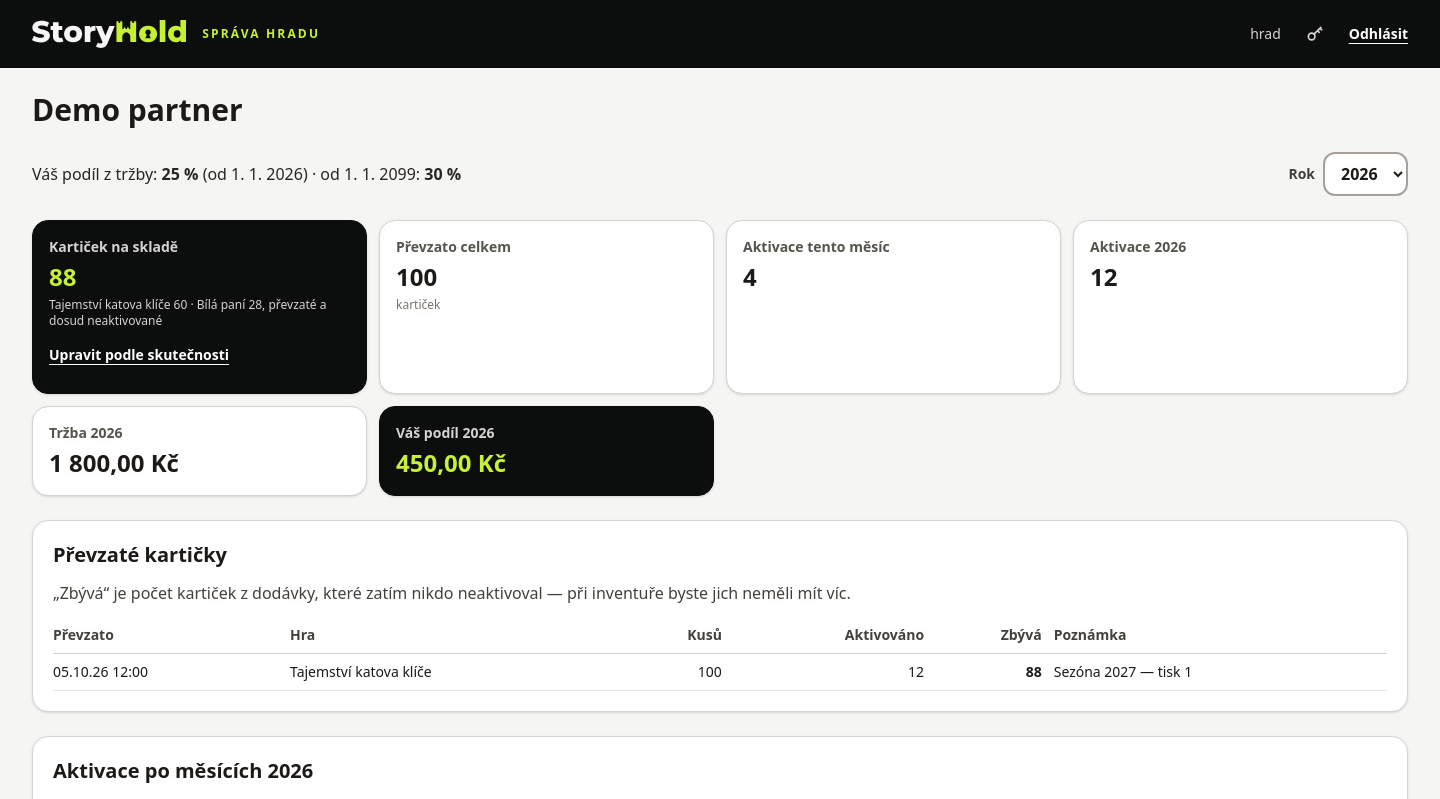
it: AdminPage — castle › changes the password from the key icon in the header
Click the button named "Změnit heslo" at (1315, 34), box [1293,12,1337,56]
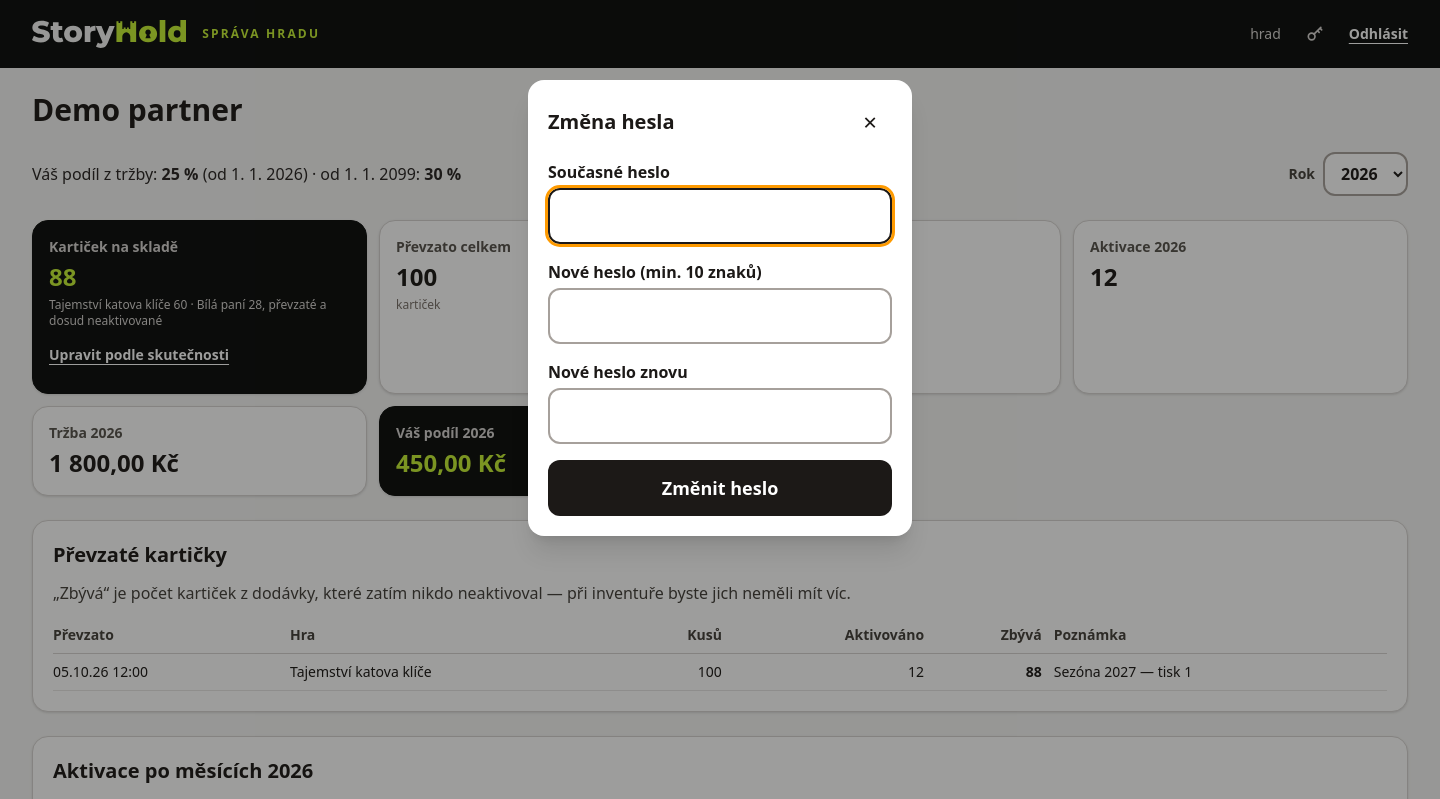
Type "hrad-loket" into the password field labelled "Současné heslo" at (720, 216), box [548,188,892,244]
Type "Nove-heslo-123" into the password field labelled "Nové heslo (min. 10 znaků)" at (720, 316), box [548,288,892,344]
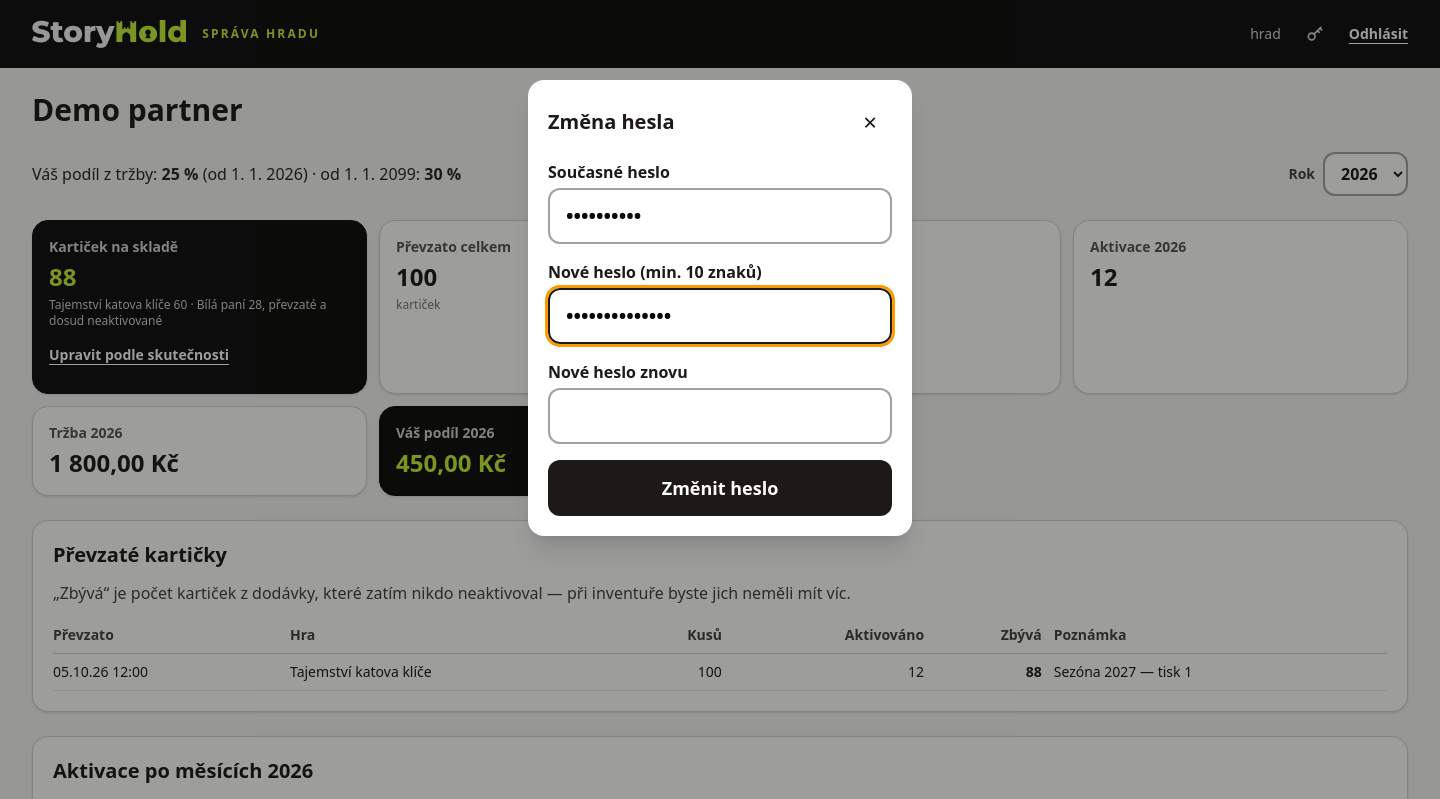
Type "Nove-heslo-12" into the password field labelled "Nové heslo znovu" at (720, 416), box [548,388,892,444]
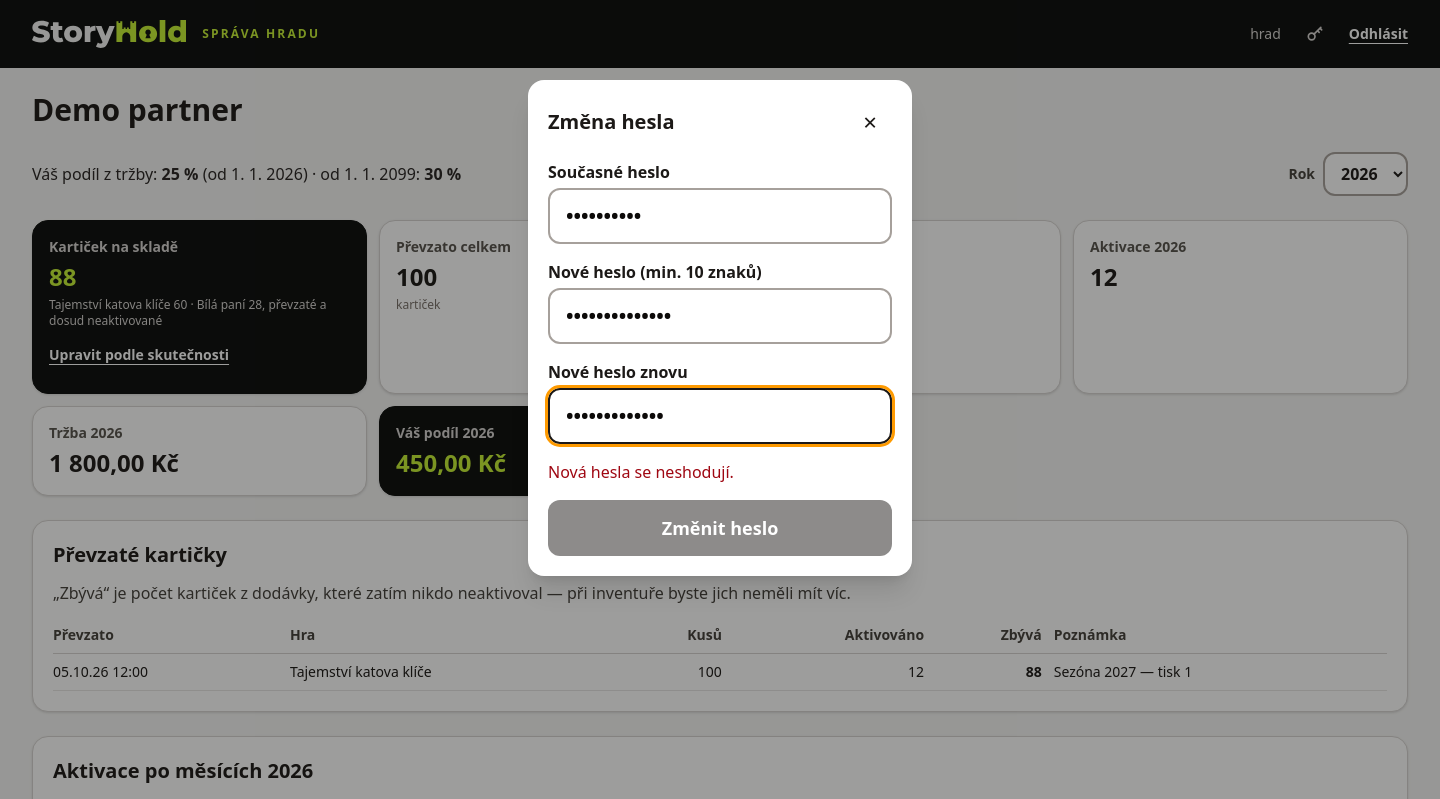
Expected: the text "Nová hesla se neshodují." is shown, [548,461,734,483]
Type "3" into the password field labelled "Nové heslo znovu" at (720, 416), box [548,388,892,444]
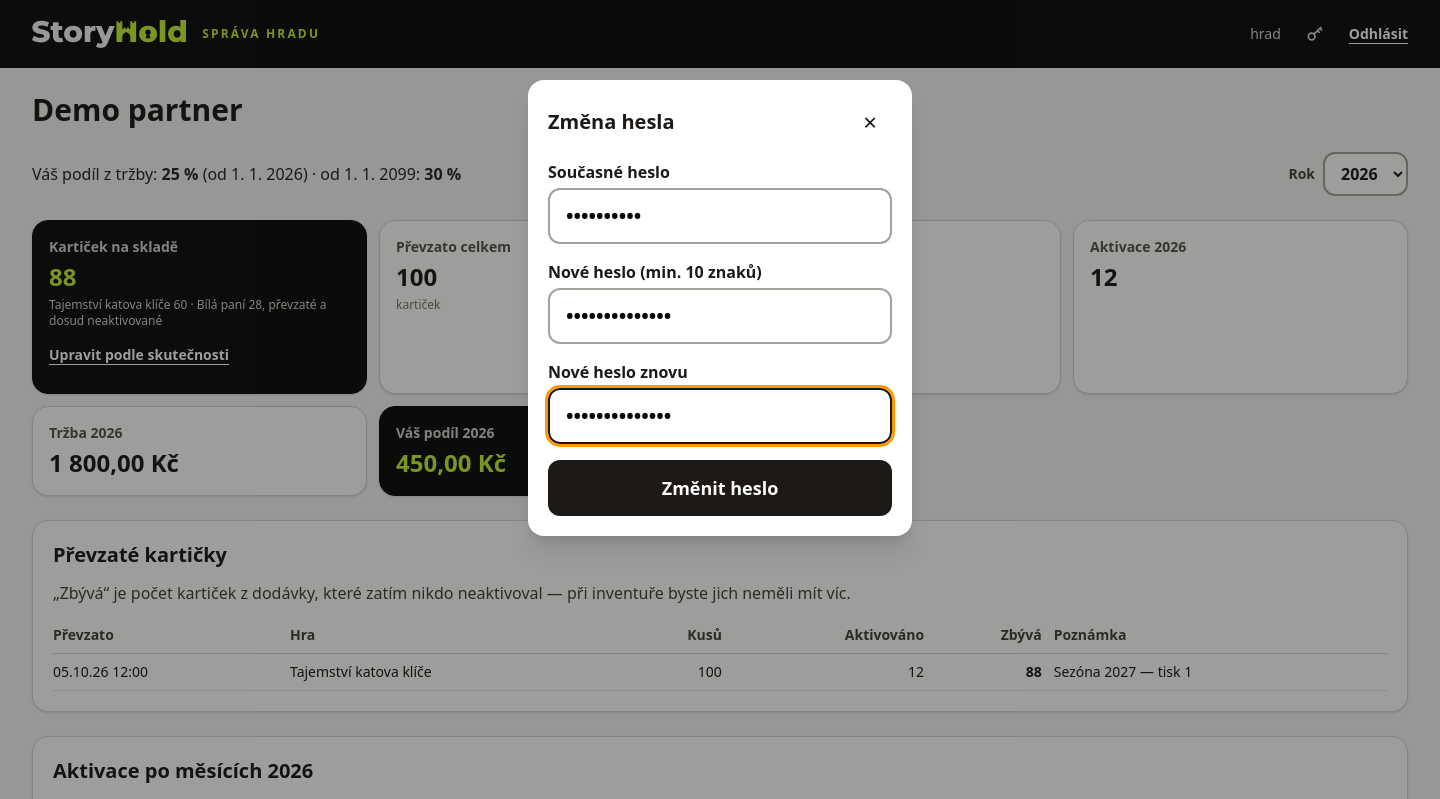
Click the button "Změnit heslo" at (720, 488), box [548,460,892,516]
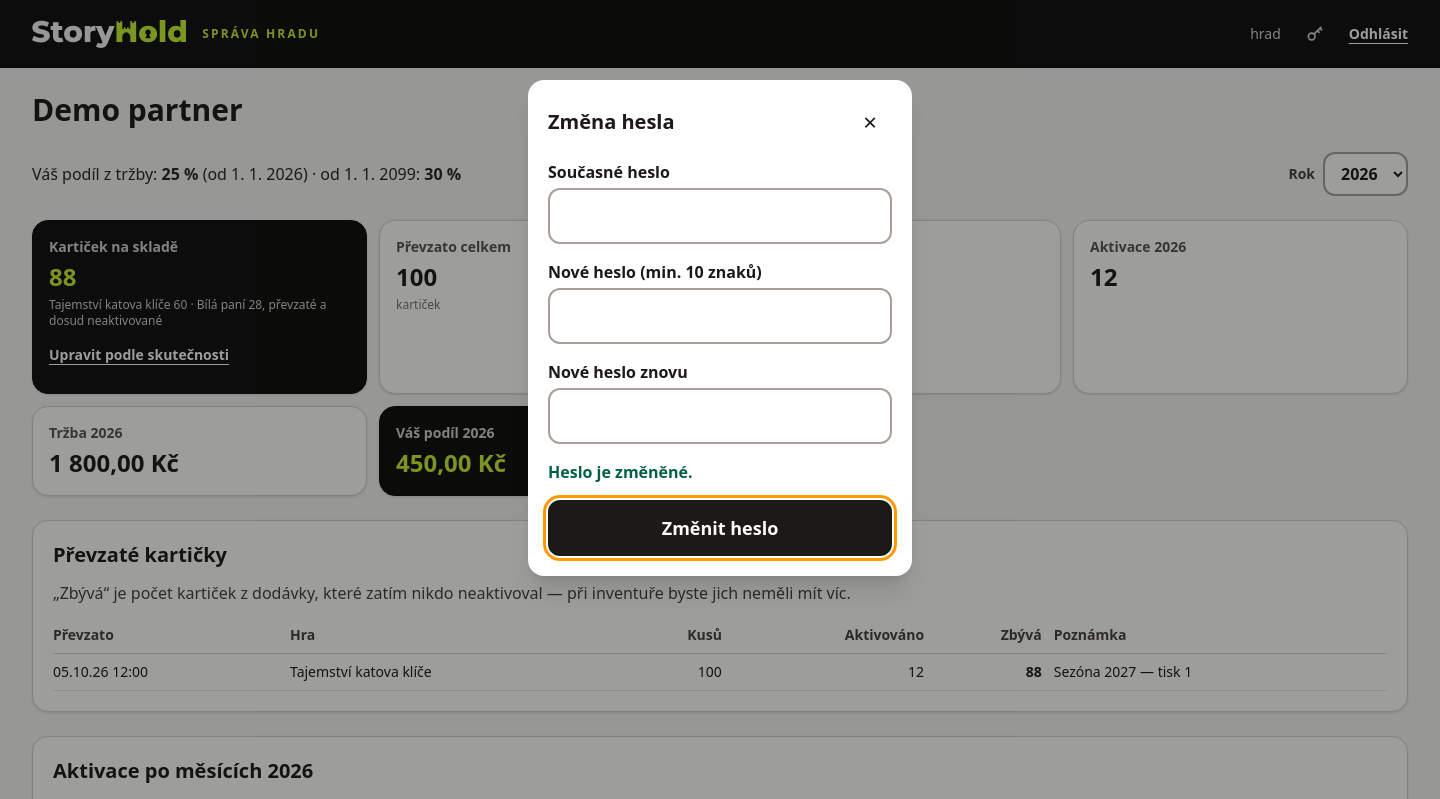
Expected: the text "Heslo je změněné." is shown, [548,461,693,483]
Press Escape
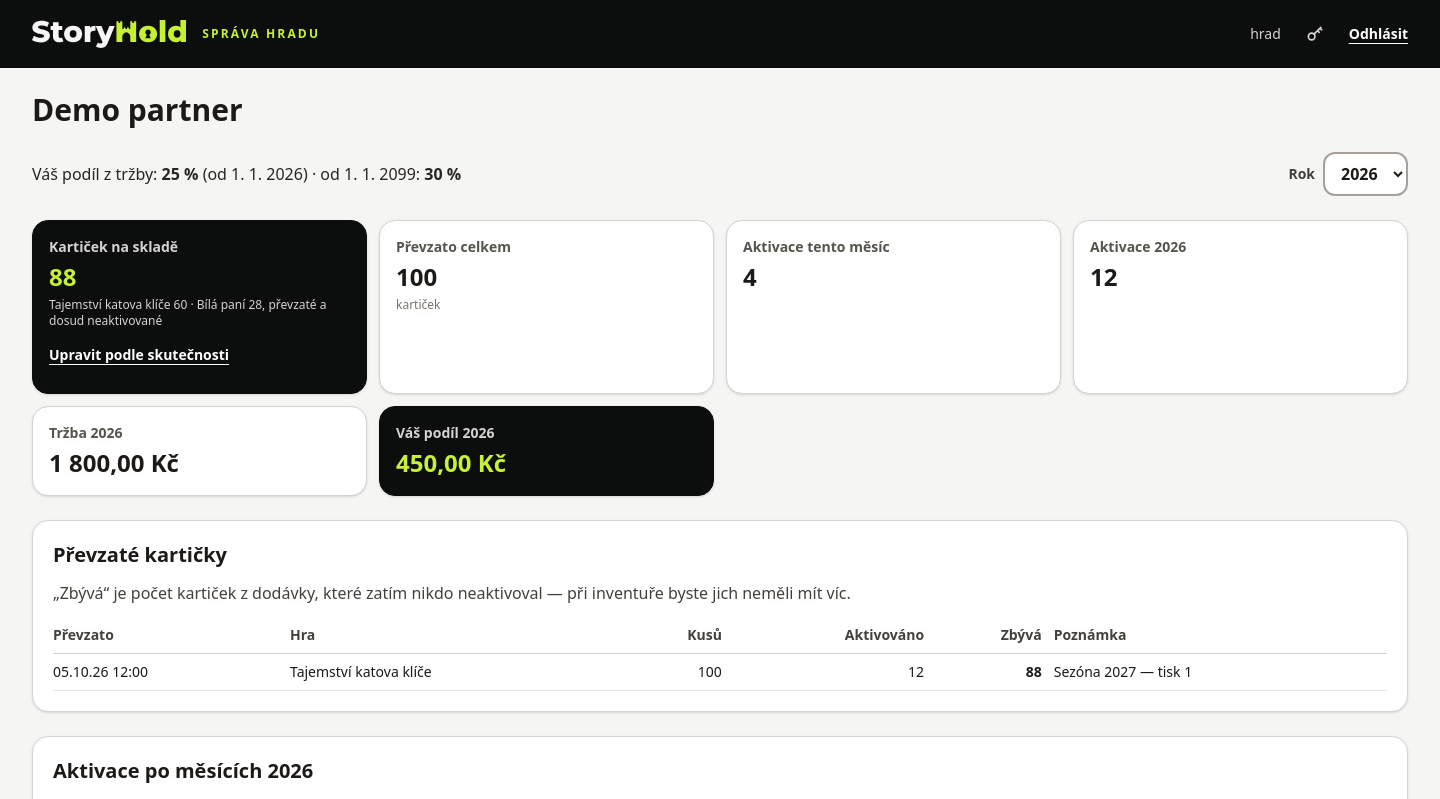
Expected: the dialog is gone
